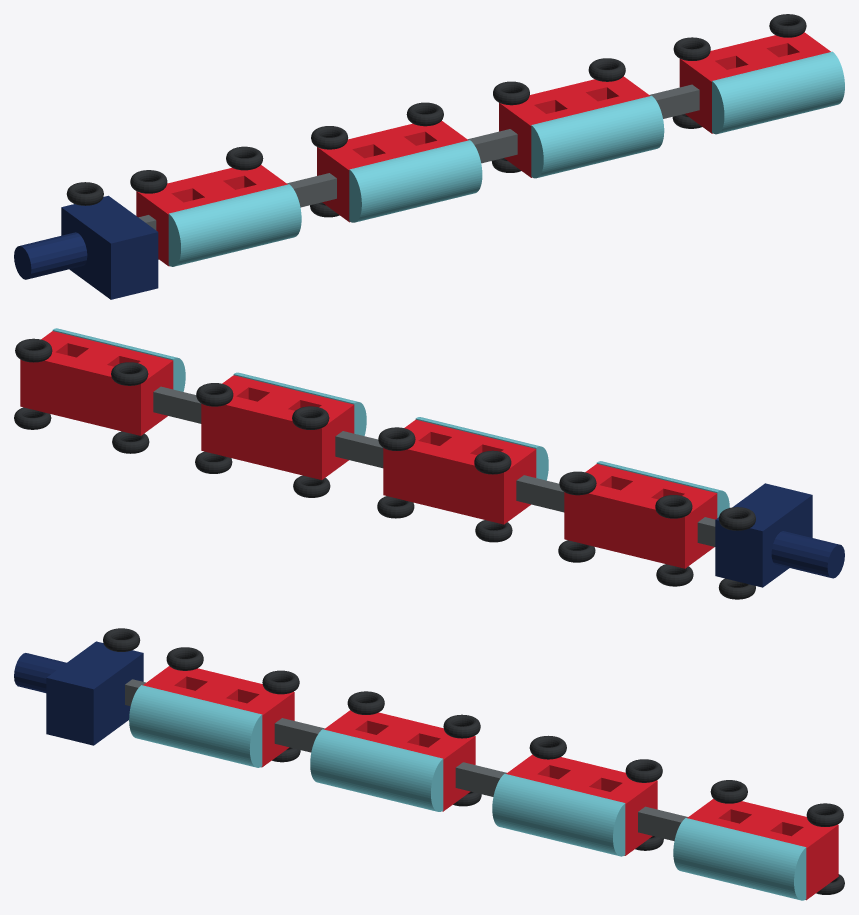
The model's file is tinker.obj.
The picture shows the model from 3 angles, top to bottom: view 1: azimuth 30°, elevation 25°; view 2: azimuth 150°, elevation 25°; view 3: azimuth 330°, elevation 25°; orthographic projection.
Parts seen in each view (by area): view 1: group_0_7720667, group_0_15277357, group_0_1650274, group_0_2829873, group_0_6383466; view 2: group_0_15277357, group_0_2829873, group_0_1650274, group_0_6383466, group_0_7720667; view 3: group_0_7720667, group_0_15277357, group_0_1650274, group_0_2829873, group_0_6383466.
Part boxes in pixels (x1=…): group_0_7720667: x1=168, y1=51, x2=844, y2=266; group_0_15277357: x1=136, y1=32, x2=830, y2=266; group_0_1650274: x1=14, y1=195, x2=158, y2=299; group_0_2829873: x1=66, y1=14, x2=806, y2=259; group_0_6383466: x1=138, y1=84, x2=699, y2=230; group_0_15277357: x1=20, y1=331, x2=717, y2=568; group_0_2829873: x1=14, y1=338, x2=755, y2=599; group_0_1650274: x1=715, y1=483, x2=844, y2=587; group_0_6383466: x1=153, y1=386, x2=715, y2=546; group_0_7720667: x1=52, y1=328, x2=729, y2=517; group_0_7720667: x1=129, y1=685, x2=806, y2=900; group_0_15277357: x1=143, y1=666, x2=838, y2=900; group_0_1650274: x1=14, y1=641, x2=143, y2=745; group_0_2829873: x1=103, y1=628, x2=844, y2=894; group_0_6383466: x1=125, y1=679, x2=687, y2=840.
Bounding box in the file's own units: 372 × 36.5 × 48.
